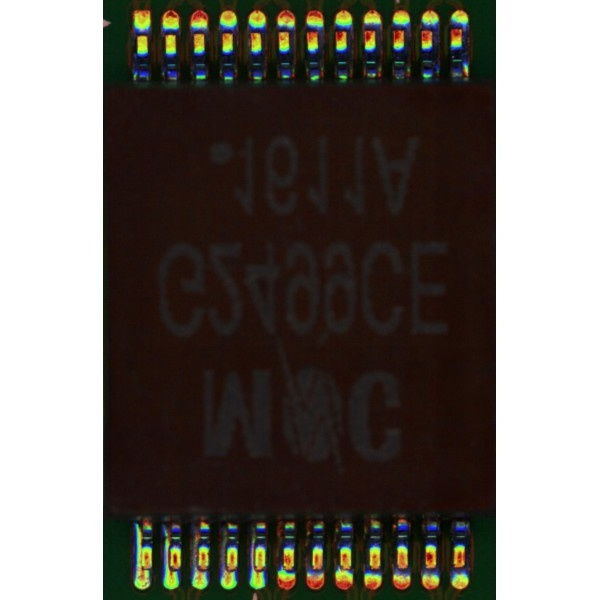Bad_podu: (168, 558, 178, 576), (198, 560, 207, 578), (226, 561, 235, 578), (140, 560, 149, 577), (255, 563, 263, 576)
Bad_qiaojiao: (134, 524, 141, 570), (162, 526, 169, 571), (250, 530, 255, 570)
